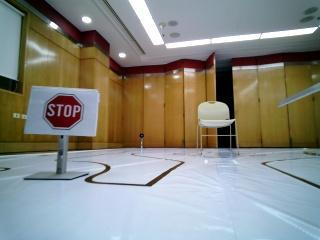stop: (34, 89, 92, 135)
